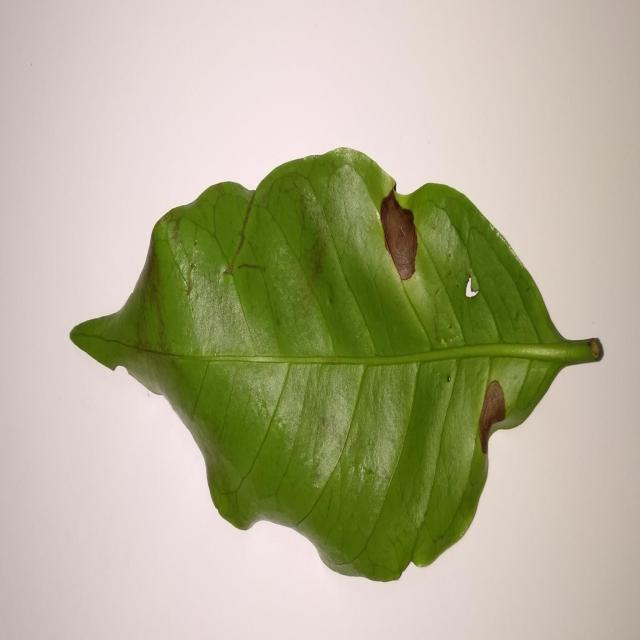Enfermedad-Antracnosis: (68, 148, 605, 586)
